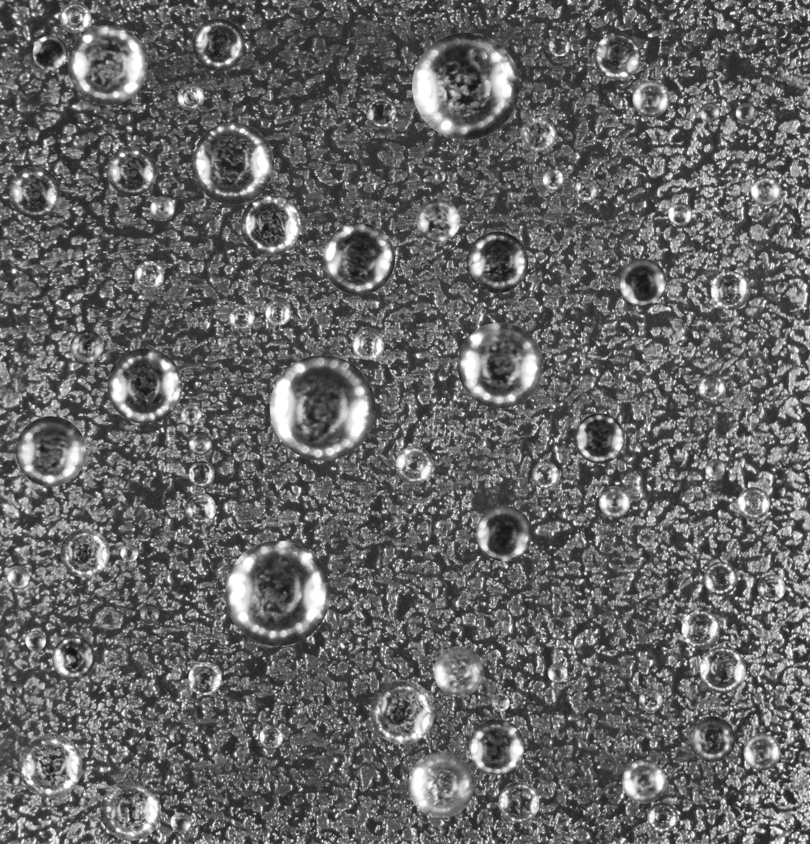Bubble: (412, 32, 519, 139), (269, 355, 375, 460), (225, 540, 330, 646), (457, 322, 543, 408), (191, 122, 273, 204), (67, 25, 147, 104), (107, 348, 182, 423), (322, 222, 394, 294), (15, 416, 85, 486), (408, 752, 474, 818), (370, 680, 434, 744), (18, 734, 82, 797), (466, 231, 528, 293), (100, 780, 161, 840), (240, 195, 300, 255), (476, 505, 531, 561), (468, 719, 524, 774), (192, 18, 244, 70), (9, 166, 60, 218), (433, 646, 484, 696), (574, 413, 624, 463), (60, 528, 109, 577), (107, 146, 156, 195), (618, 258, 666, 306), (699, 647, 746, 693), (689, 716, 735, 762), (594, 33, 640, 79), (416, 198, 460, 242), (622, 759, 665, 803), (52, 636, 95, 679), (498, 782, 539, 823), (710, 271, 749, 310), (681, 610, 720, 649), (632, 80, 669, 117), (520, 115, 557, 152), (395, 446, 432, 483), (743, 733, 780, 770), (32, 35, 67, 70), (70, 330, 104, 364), (703, 562, 737, 595), (188, 662, 221, 695), (737, 487, 770, 519), (352, 327, 384, 360), (599, 486, 630, 517), (60, 2, 91, 33), (184, 493, 215, 524), (134, 260, 164, 290), (750, 176, 780, 206), (366, 98, 396, 128), (647, 802, 677, 832), (757, 574, 785, 602), (698, 374, 726, 401), (177, 83, 204, 110), (532, 461, 559, 488), (228, 304, 255, 331), (265, 299, 291, 325), (188, 461, 214, 487), (259, 725, 283, 749), (188, 431, 212, 455), (668, 202, 692, 226), (638, 688, 662, 712), (150, 196, 174, 220), (574, 178, 597, 201), (548, 34, 570, 56), (7, 566, 29, 588), (542, 169, 563, 190), (180, 404, 201, 425), (25, 630, 45, 651), (139, 603, 159, 623), (170, 812, 190, 832), (735, 103, 755, 123), (705, 459, 725, 478), (700, 102, 719, 122), (547, 663, 567, 682), (491, 693, 509, 711), (120, 544, 138, 562), (2, 771, 19, 788), (5, 681, 22, 697), (738, 170, 750, 182), (434, 171, 445, 182)
